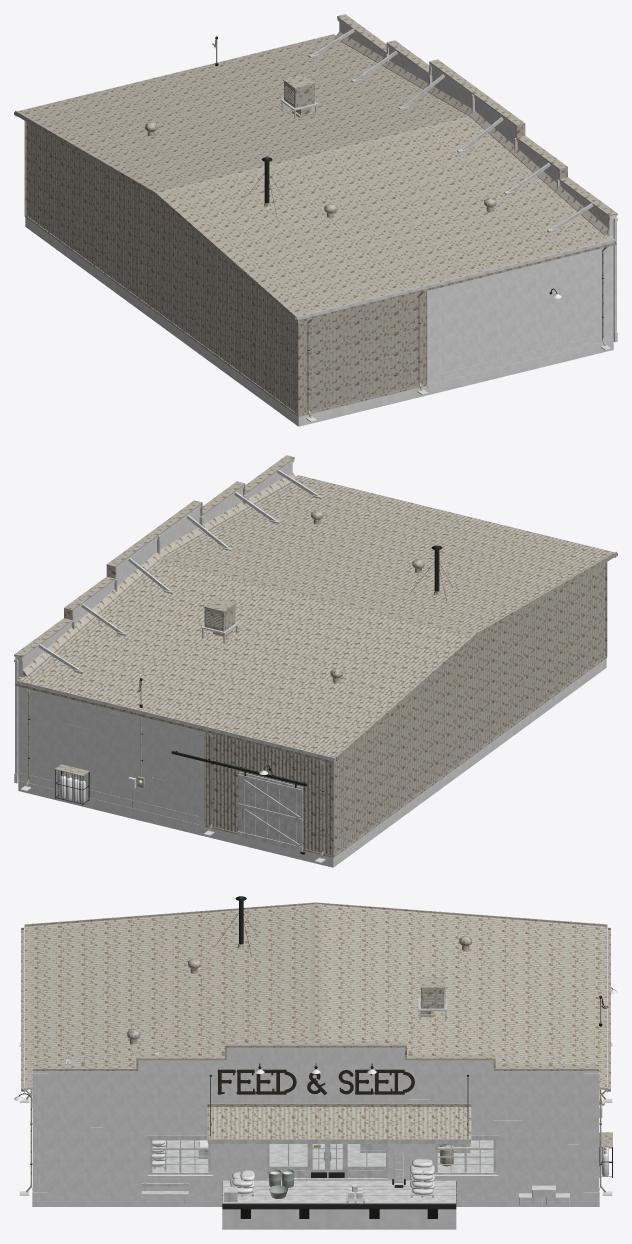
File: Feed.glb
3 renders of one model, top to bottom at view 1: azimuth 30°, elevation 25°; view 2: azimuth 150°, elevation 25°; view 3: azimuth 270°, elevation 25°, orthographic. The views are drawn at different scales.
Visible parts, largest first — view 1: SM_Town_Feed_Shell; view 2: SM_Town_Feed_Shell, SM_Town_Feed_Fixtures; view 3: SM_Town_Feed_Shell, SM_Town_Feed_Interior, SM_Town_Feed_Fixtures.
Boxes of the visible parts, box(x1,y1,x2,y2) form: SM_Town_Feed_Shell: box(14, 14, 617, 426); SM_Town_Feed_Shell: box(14, 455, 617, 867); SM_Town_Feed_Fixtures: box(55, 678, 306, 854); SM_Town_Feed_Shell: box(19, 896, 612, 1229); SM_Town_Feed_Interior: box(152, 1140, 493, 1171); SM_Town_Feed_Fixtures: box(14, 987, 617, 1187).
Bounding box in the file's own units: 19.1 × 8.77 × 25.83.
Materials: 34 (25 with a texture image).
